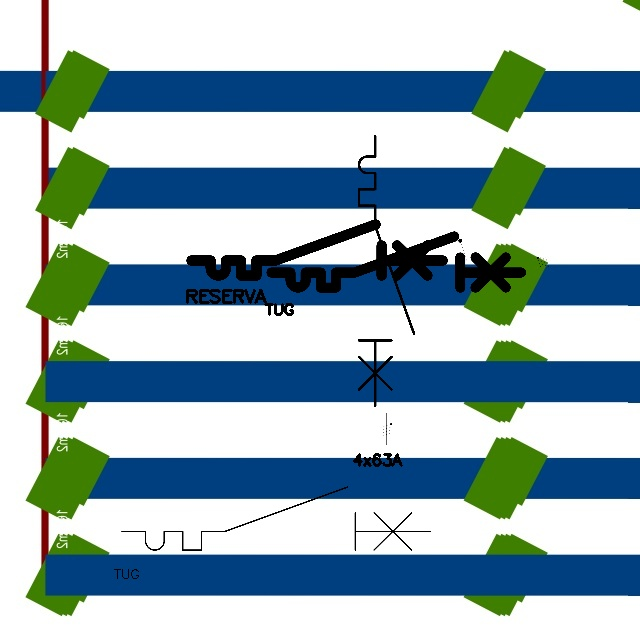interruptor_termomagnetico: (114, 479, 438, 558), (352, 129, 421, 412), (185, 218, 449, 282), (265, 230, 527, 294)
